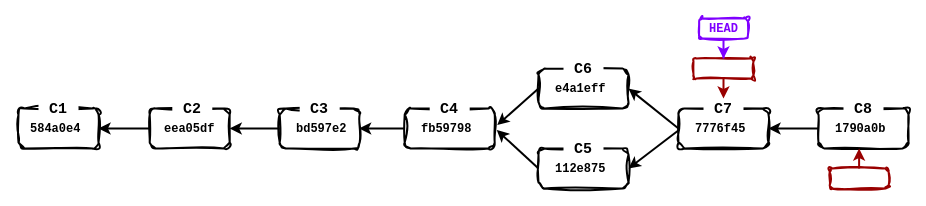
The diagram is 926 pixels wide and 206 high, and some of its shapes have lost their labels. The shapes that lost their labels are listed below. From the top down, each one's centre as x and y in pixels, then its label:
At (x=723, y=68): "master".
At (x=858, y=178): "testing".
